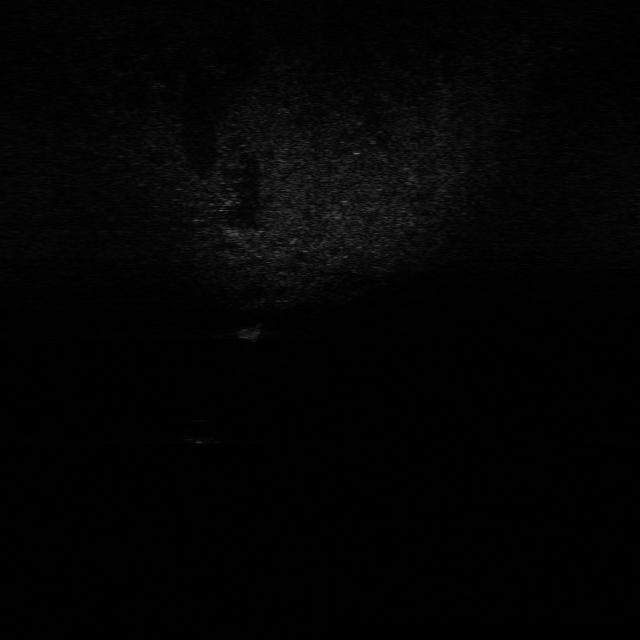ball: (180, 414, 220, 444)
cube: (227, 320, 268, 344)
